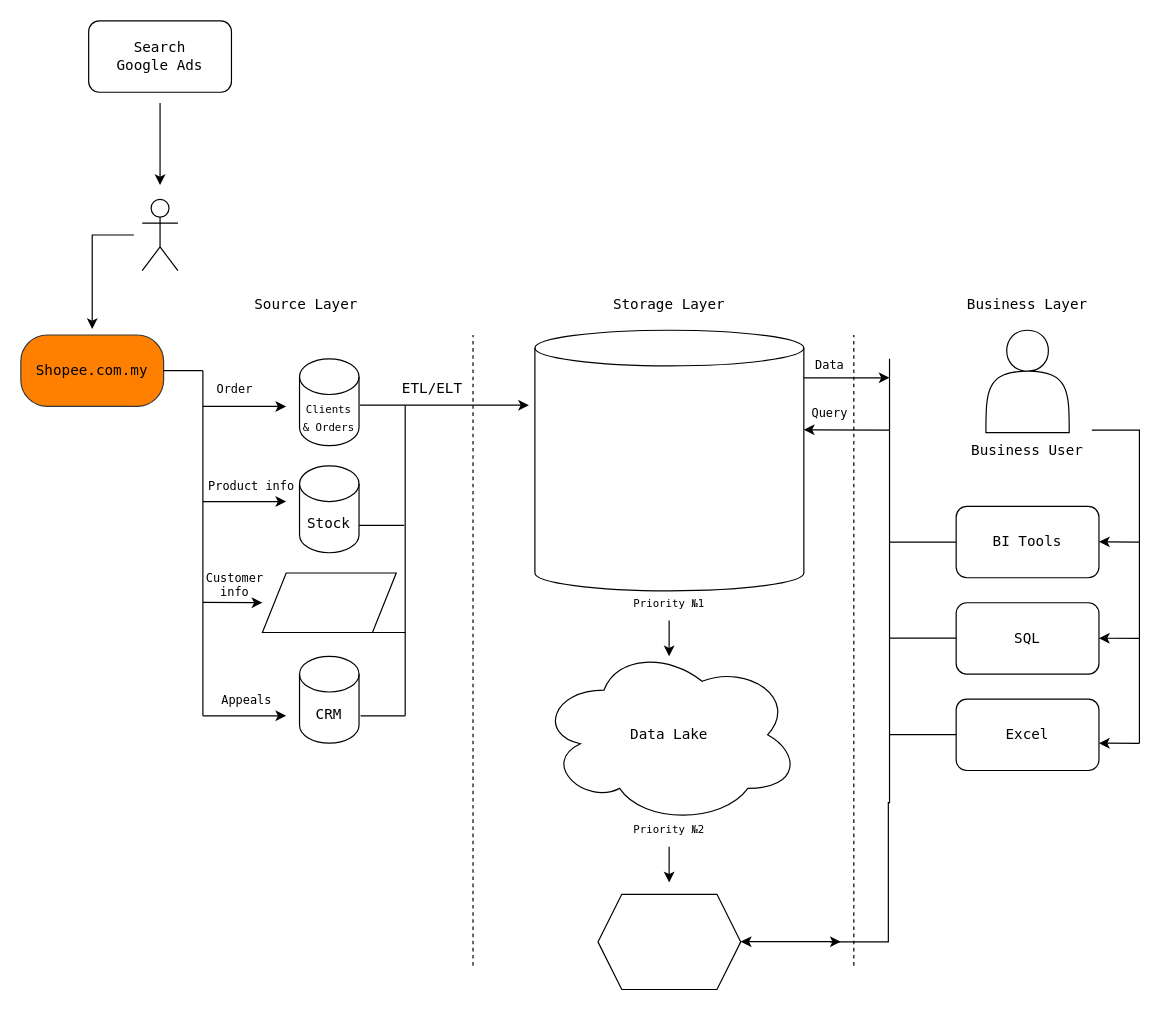
Some shapes in this 1170 by 1010 pixel diagram are drawn without their labels. Each missing label, with the centre of its shape:
Customer: point (159, 234)
Data Warehouse Staging ------------- BL Data model: point (669, 460)
Google Analytics API: point (328, 602)
Processing: point (669, 941)
